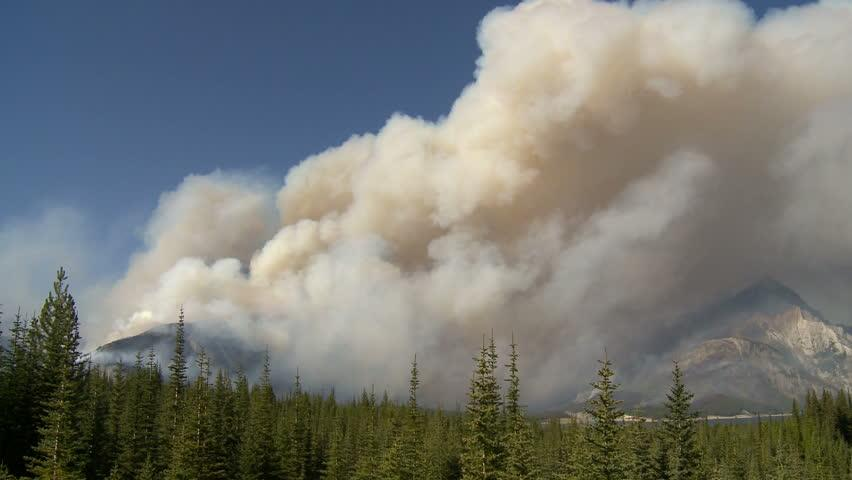smoke: (111, 0, 847, 401)
